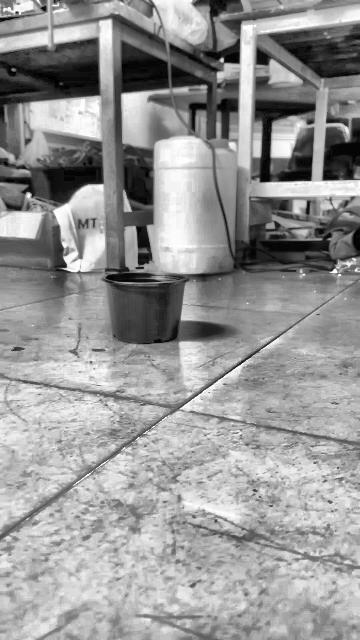pot: (104, 272, 188, 343)
